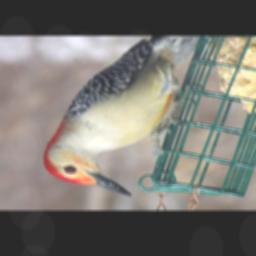Woodpecker: (43, 36, 196, 196)
